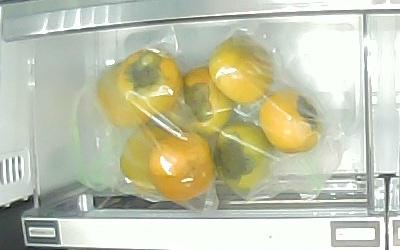persimmon_vinyl: (148, 131, 216, 204), (208, 35, 274, 104), (116, 49, 182, 115), (172, 66, 236, 134), (214, 123, 273, 190), (259, 90, 319, 153), (120, 125, 167, 192)
